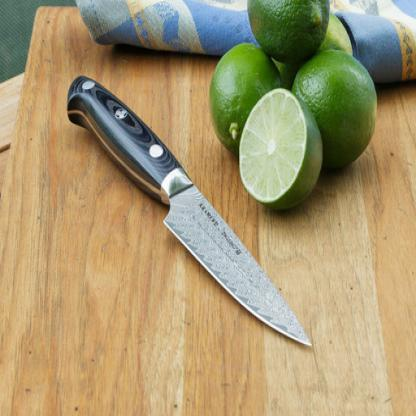knife: (64, 68, 312, 348)
